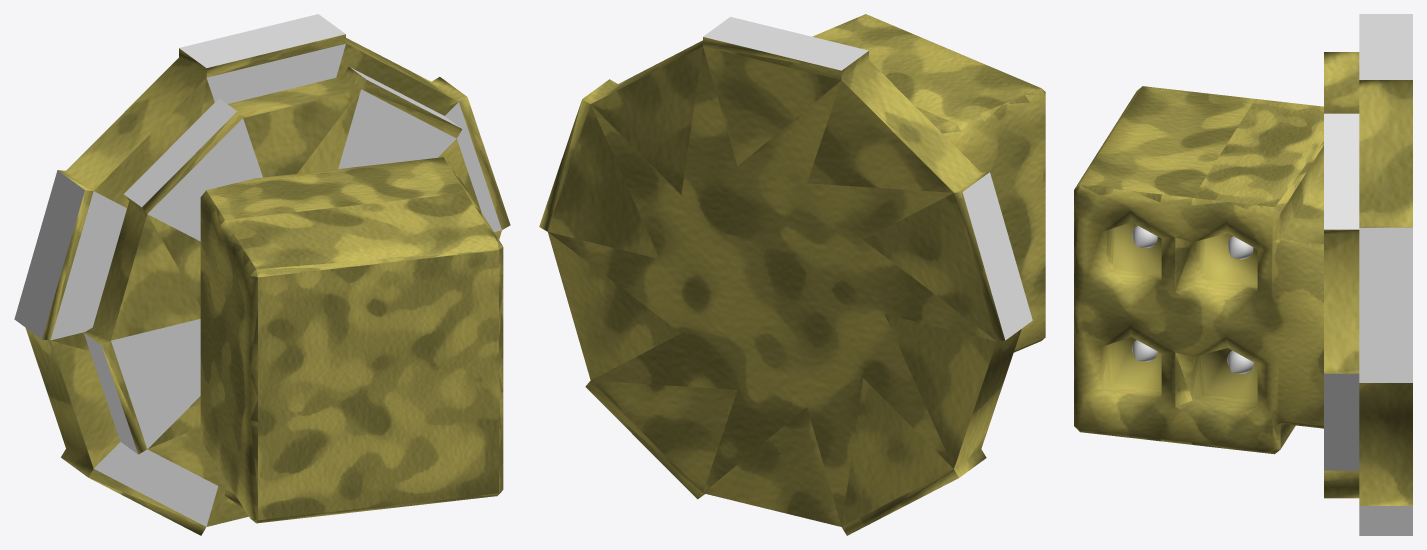
Rendered from Launcher.fbx.
3 renders of one model, left to right at view 1: azimuth 30°, elevation 25°; view 2: azimuth 150°, elevation 25°; view 3: azimuth 270°, elevation 25°, orthographic. The views are drawn at different scales.
Parts seen in each view (by area): view 1: Body0, Body1, Color1; view 2: Body1, Body0, Color1; view 3: Body0, Body1, Color1, Emitter1, Emitter2, Emitter4.
Boxes of the visible parts, bbox=[...] form: Body0: bbox=[200, 157, 503, 523]; Body1: bbox=[25, 34, 510, 535]; Color1: bbox=[14, 14, 501, 526]; Body1: bbox=[539, 37, 1021, 535]; Body0: bbox=[812, 14, 1045, 352]; Color1: bbox=[703, 17, 1032, 340]; Body0: bbox=[1074, 86, 1323, 454]; Body1: bbox=[1324, 52, 1412, 505]; Color1: bbox=[1324, 14, 1412, 535]; Emitter1: bbox=[1227, 236, 1253, 259]; Emitter2: bbox=[1227, 350, 1253, 373]; Emitter4: bbox=[1132, 226, 1157, 247].
Bounding box in the file's own units: 34.51 × 32.83 × 22.24.
1 material, 1 textured.
